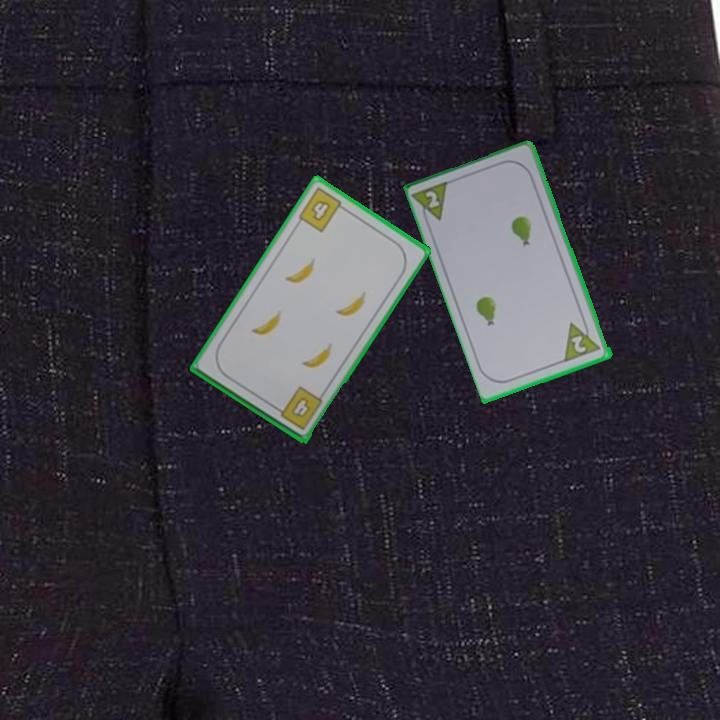2p: (568, 332, 590, 356), (422, 187, 443, 211)
4b: (295, 184, 350, 235), (271, 382, 325, 433)
